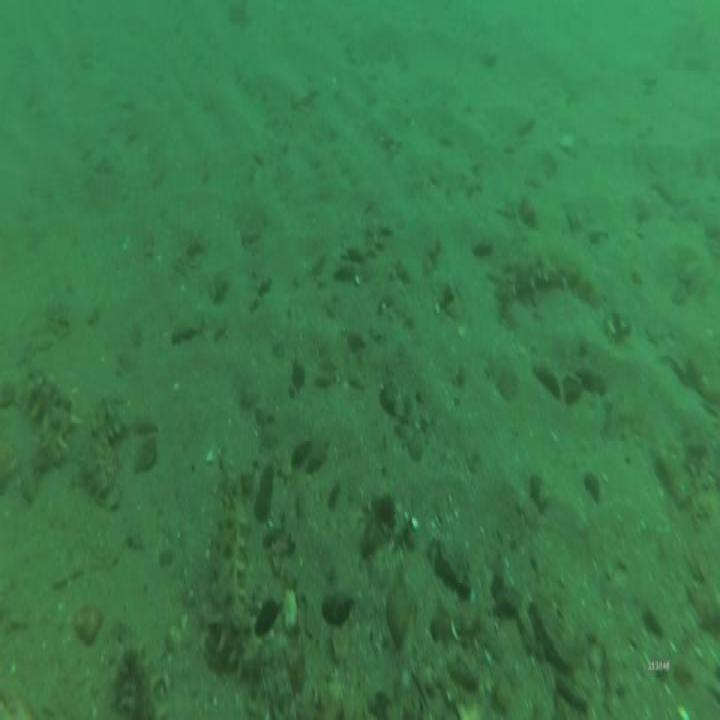holothurian: (199, 462, 262, 663), (495, 242, 606, 316), (20, 361, 81, 482), (86, 397, 127, 500)
